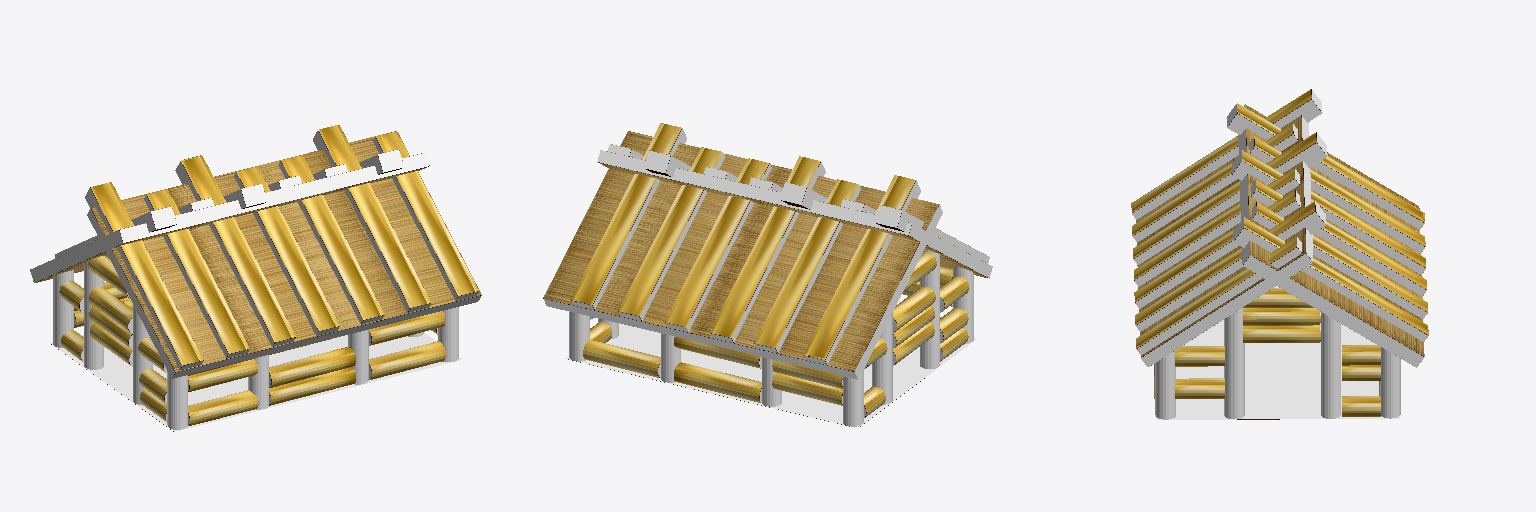
3 renders of one model, left to right at view 1: azimuth 30°, elevation 25°; view 2: azimuth 150°, elevation 25°; view 3: azimuth 270°, elevation 25°, orthographic.
Parts seen in each view (by area): view 1: Part229, Part110, Part375, Part282, Part138, Part265, Part171, Part3, Part205, Part356, Part232, Part260 (+26 smaller); view 2: Part262, Part110, Part362, Part132, Part211, Part300, Part158, Part222, Part230, Part263, Part228, Part260 (+22 smaller); view 3: Part110, Part262, Part229, Part264, Part231, Part282, Part138, Part72, Part375, Part132, Part133, Part211 (+28 smaller).
Boxes of the visible parts, x1,y1,x2,y2 form: Part229: [91, 131, 481, 371]; Part110: [50, 333, 461, 431]; Part375: [91, 182, 202, 365]; Part282: [181, 155, 295, 341]; Part138: [318, 125, 430, 307]; Part265: [120, 153, 428, 242]; Part171: [281, 155, 384, 319]; Part3: [376, 131, 478, 295]; Part205: [237, 166, 339, 330]; Part356: [147, 189, 249, 353]; Part232: [172, 295, 481, 378]; Part260: [30, 230, 122, 282]; Part262: [543, 131, 938, 371]; Part110: [566, 323, 977, 427]; Part362: [804, 175, 915, 359]; Part132: [571, 123, 681, 304]; Part211: [710, 156, 820, 337]; Part300: [755, 179, 858, 347]; Part158: [619, 147, 722, 315]; Part222: [665, 158, 768, 326]; Part230: [597, 150, 911, 234]; Part263: [544, 299, 857, 379]; Part228: [598, 162, 986, 277]; Part260: [855, 205, 942, 378]; Part110: [1155, 286, 1399, 419]; Part262: [1245, 104, 1424, 356]; Part229: [1136, 116, 1305, 357]; Part264: [1243, 255, 1423, 367]; Part231: [1141, 254, 1312, 366]; Part282: [1133, 133, 1316, 258]; Part138: [1135, 201, 1314, 324]; Part72: [1227, 308, 1241, 418]; Part375: [1131, 89, 1311, 212]; Part132: [1244, 217, 1428, 335]; Part133: [1234, 228, 1427, 341]; Part211: [1242, 150, 1425, 267].
Bounding box in the file's own units: 35.74 × 21 × 29.44.
Materials: 10 (2 with a texture image).